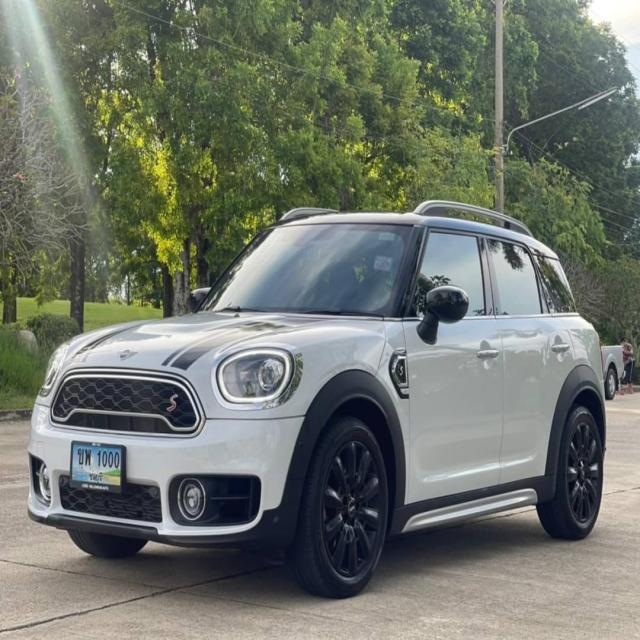license_plate: (68, 438, 127, 497)
